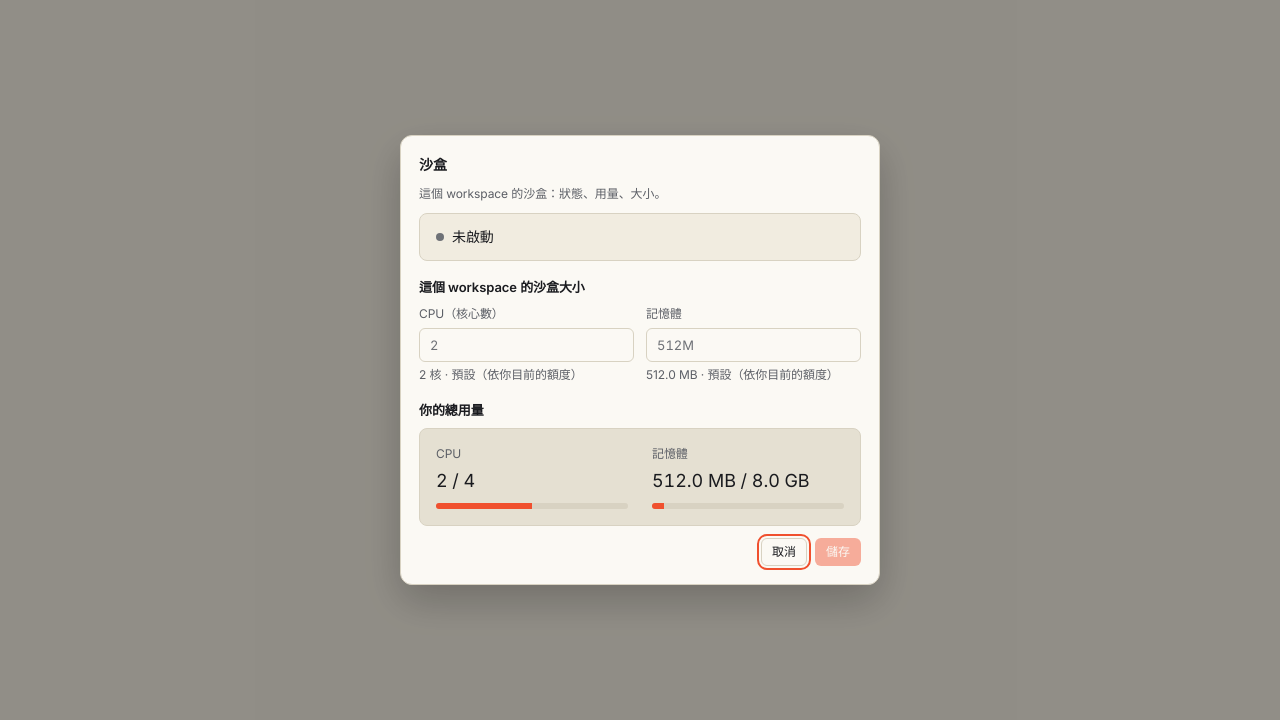
Scenario: ItemEnvironmentModal — what the review found unguarded › refuses, client-side, what the server would refuse: a memory spelling it cannot parse, or a cpu of 0
In the field with test id "memory-input": (754, 345) [646,328,861,362], type "512 MiB"
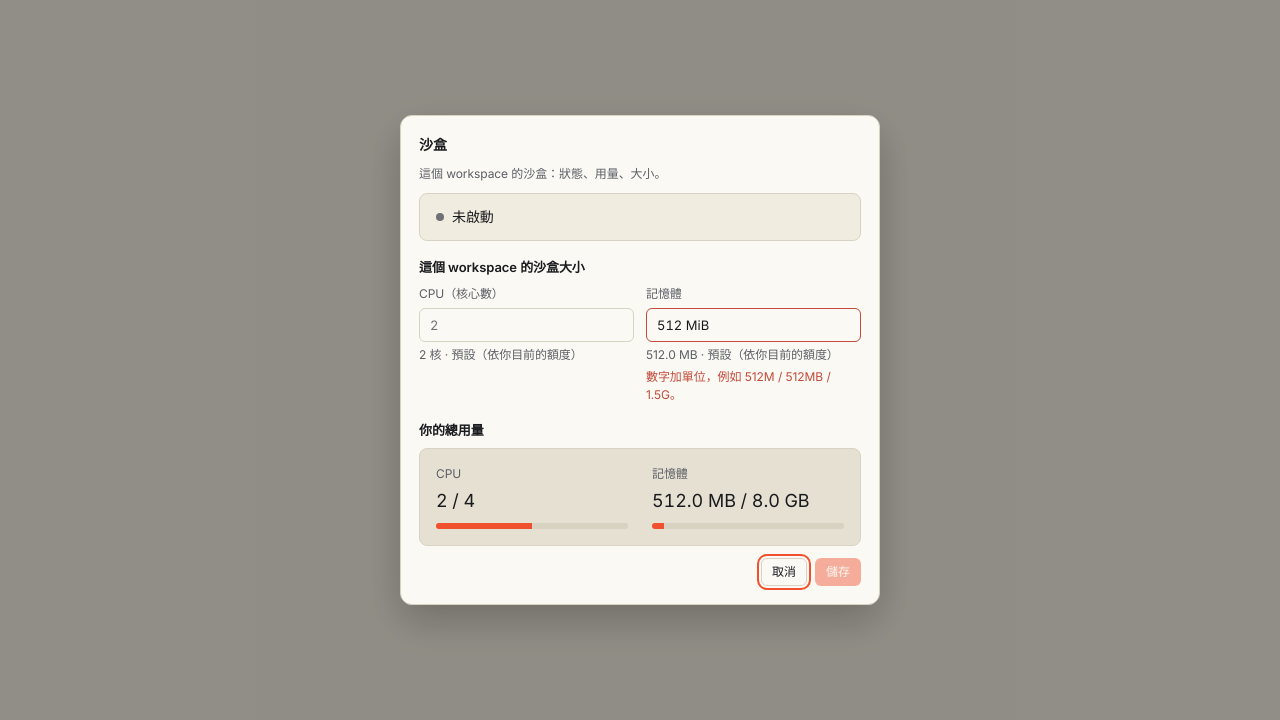
Expected: the button with test id "itemenv-save" is disabled, [815,558,861,586]
Expected: the text "數字加單位，例如 512M / 512MB / 1.5G。" is shown, [646,368,861,404]
Replace the text in the field with test id "memory-input" with "512m": (754, 325) [646,308,861,342]
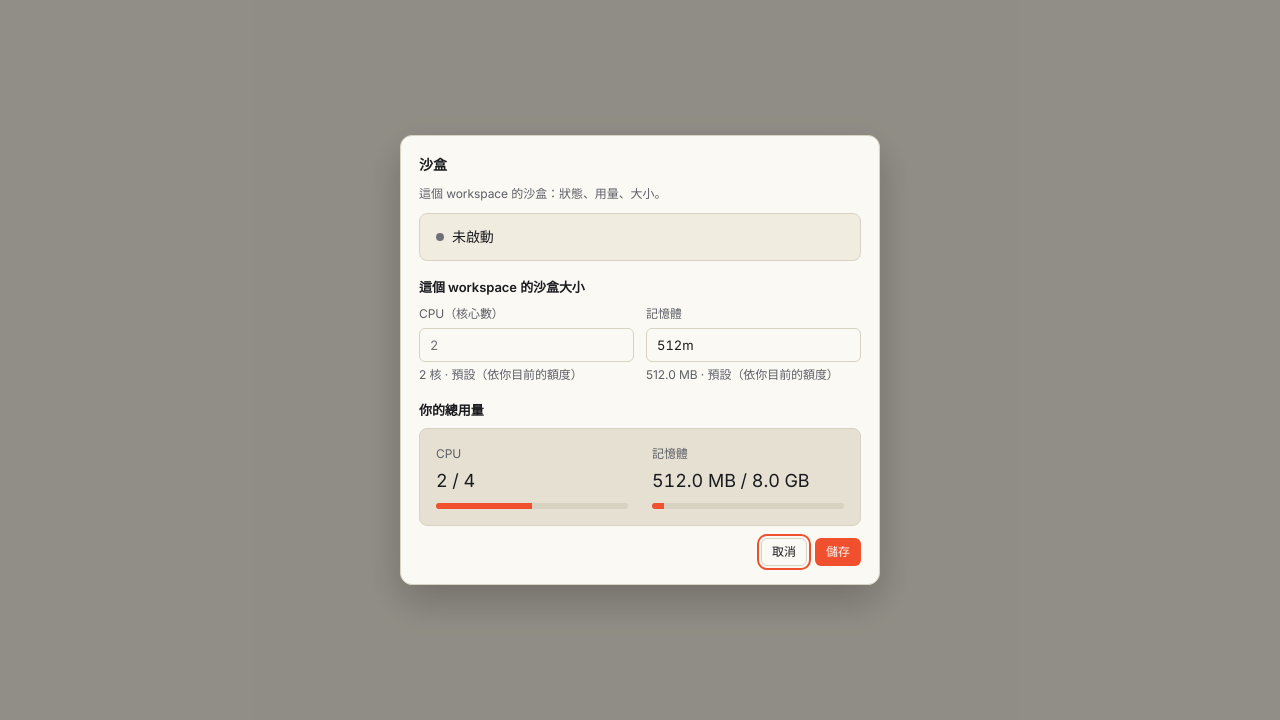
Expected: the button with test id "itemenv-save" is enabled, [815,538,861,566]
Replace the text in the field with test id "memory-input" with "512.0 MB": (754, 345) [646,328,861,362]
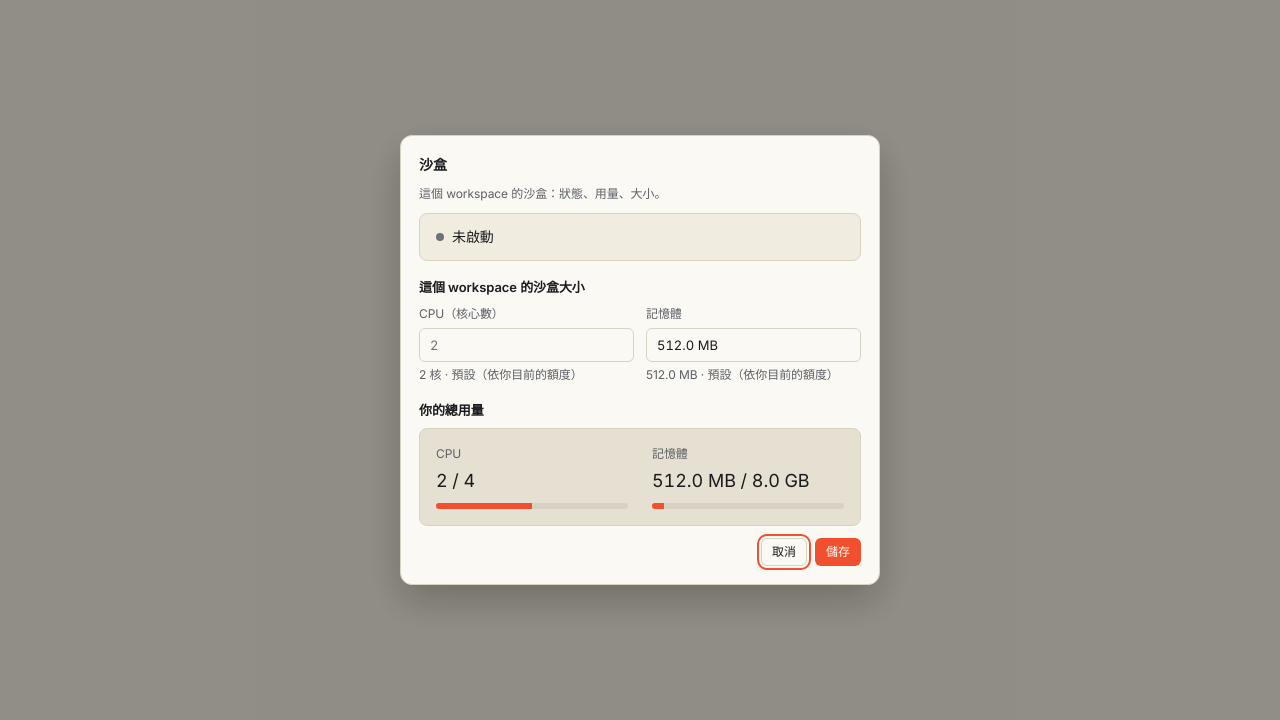
Expected: the button with test id "itemenv-save" is enabled, [815,538,861,566]
Replace the text in the field with test id "memory-input" with "1.5 GB": (754, 345) [646,328,861,362]
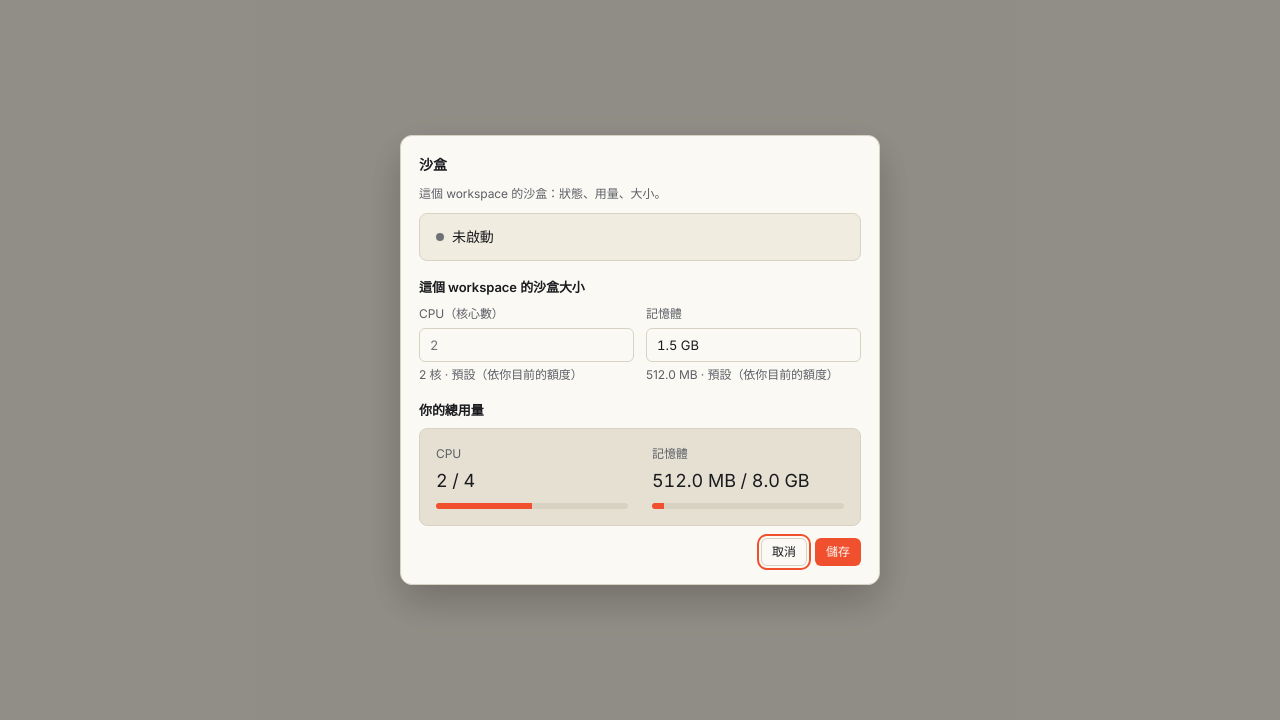
Expected: the button with test id "itemenv-save" is enabled, [815,538,861,566]
In the number field with test id "cpu-input": (526, 345) [419,328,634,362], type "0"
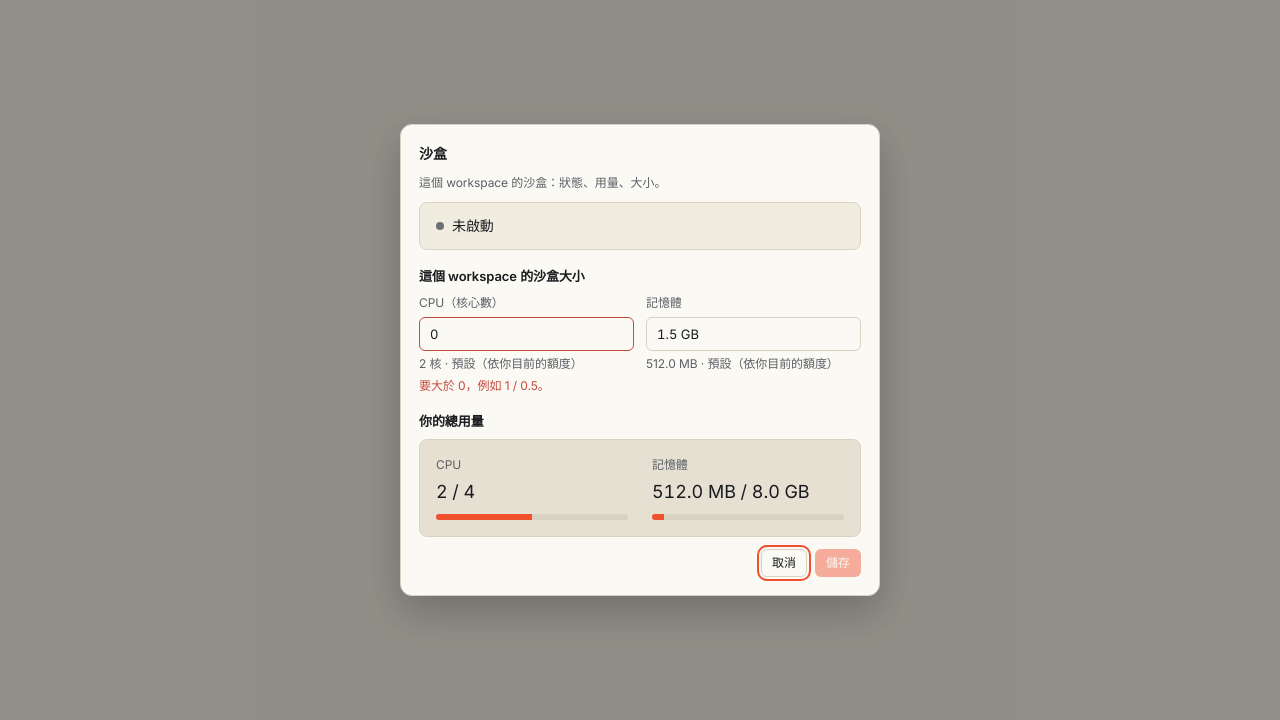
Expected: the button with test id "itemenv-save" is disabled, [815,549,861,577]
Replace the text in the number field with test id "cpu-input" with "0.5": (526, 334) [419,317,634,351]
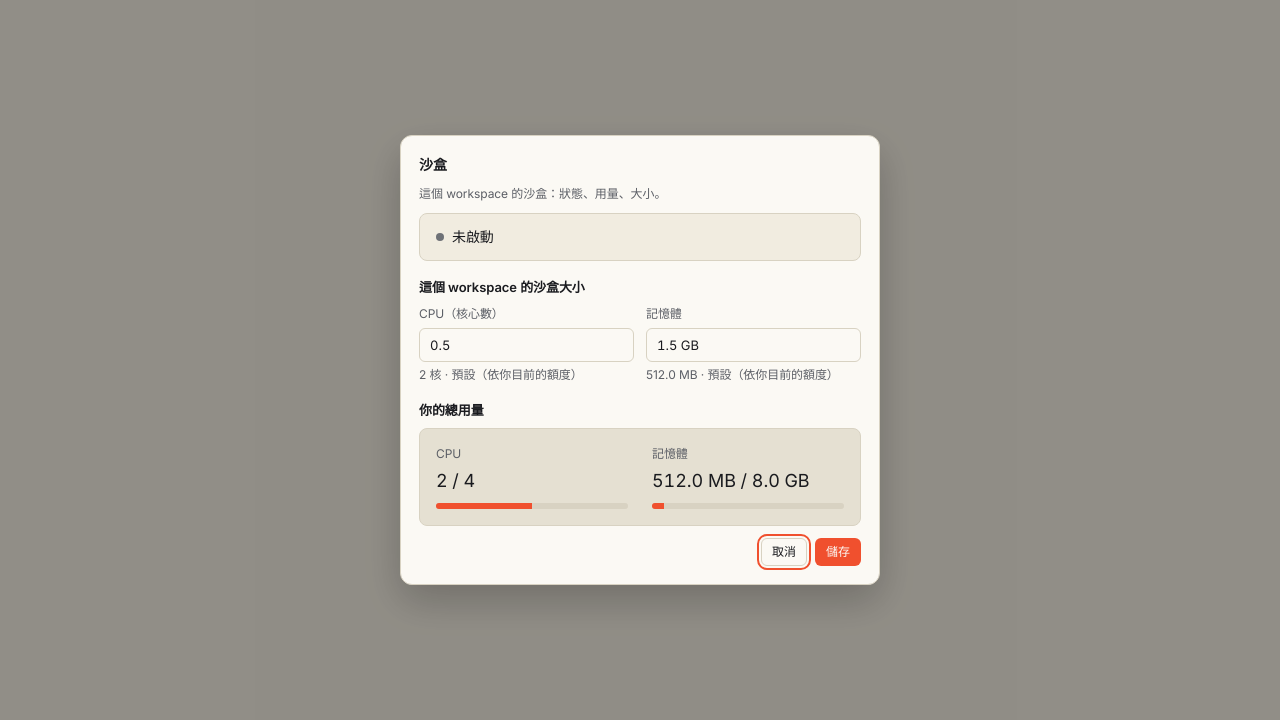
Expected: the button with test id "itemenv-save" is enabled, [815,538,861,566]
